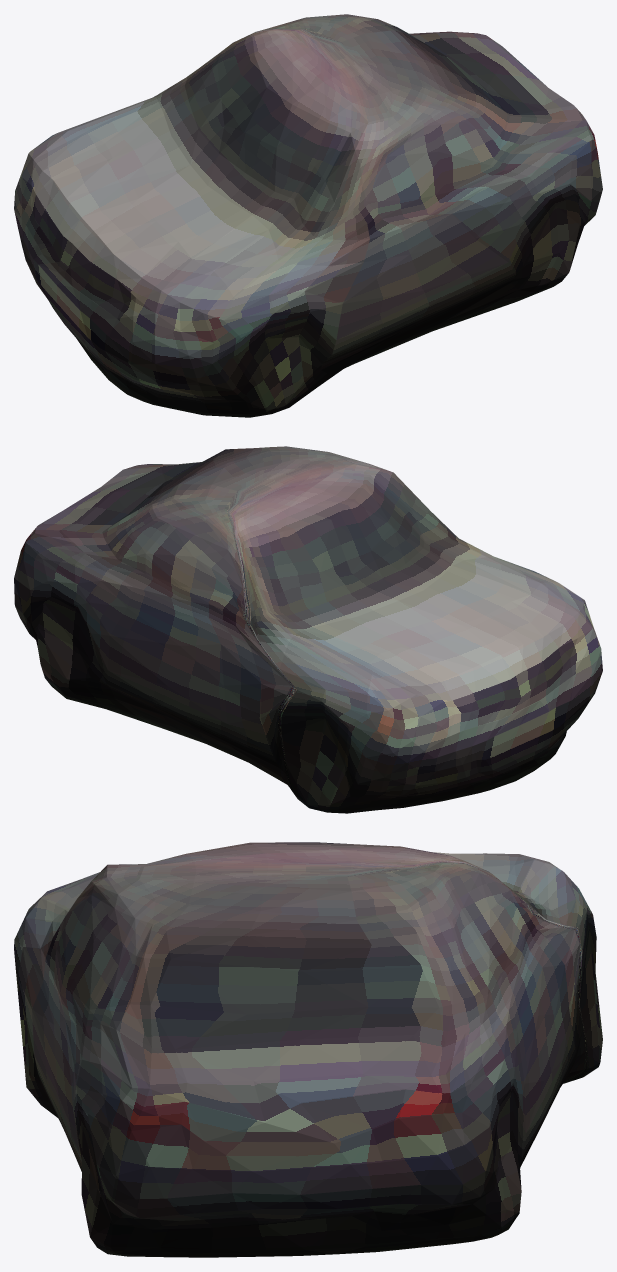
Rendered from video3_40.obj.
The picture shows the model from 3 angles, top to bottom: view 1: azimuth 30°, elevation 25°; view 2: azimuth 150°, elevation 25°; view 3: azimuth 270°, elevation 25°; orthographic projection. The views are drawn at different scales.
Size of the model in its own units: 1 by 0.5012 by 0.7591.
Materials: 1 (1 with a texture image).
